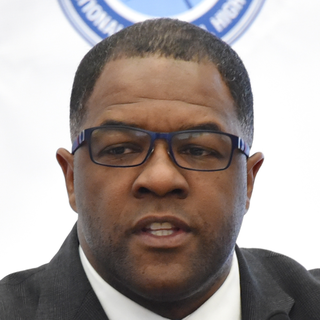eye: (177, 139, 221, 168), (95, 141, 141, 162)
